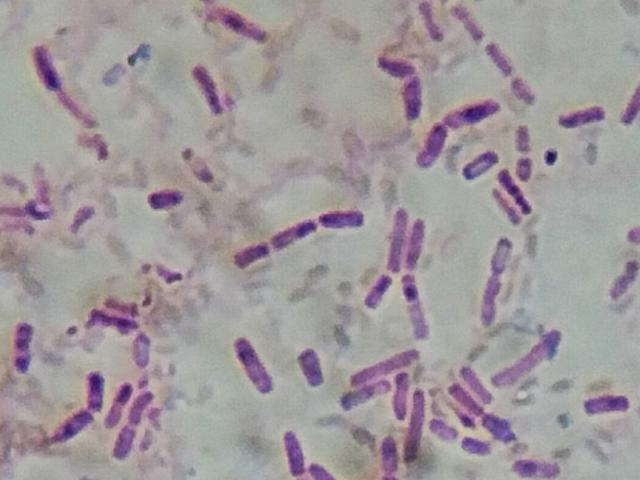E. coli: (495, 324, 580, 381), (379, 45, 430, 120), (265, 211, 318, 255), (28, 38, 66, 99), (233, 335, 273, 392), (351, 347, 429, 376), (403, 389, 432, 466), (382, 201, 416, 266), (485, 234, 509, 326), (401, 272, 432, 342), (441, 95, 505, 127), (313, 198, 366, 235), (486, 188, 526, 237), (196, 59, 230, 111), (145, 172, 191, 210), (500, 162, 536, 208), (226, 238, 265, 277), (59, 407, 97, 447), (13, 315, 38, 375), (579, 391, 629, 421), (555, 97, 601, 129), (276, 427, 305, 475), (609, 264, 640, 307), (459, 144, 497, 179), (516, 455, 568, 480), (361, 269, 394, 307), (462, 362, 495, 400), (422, 117, 446, 169), (133, 327, 158, 376), (488, 409, 526, 441), (299, 348, 325, 391), (393, 364, 415, 413), (376, 436, 400, 480), (345, 382, 389, 406), (515, 127, 536, 175), (452, 1, 481, 35), (506, 79, 544, 104), (408, 222, 431, 263), (488, 39, 512, 77), (419, 1, 442, 40), (448, 384, 476, 416), (111, 424, 138, 457), (129, 384, 153, 421), (459, 435, 494, 459), (85, 369, 102, 409), (112, 377, 127, 422), (93, 307, 124, 328), (311, 458, 336, 480), (438, 417, 456, 441)
